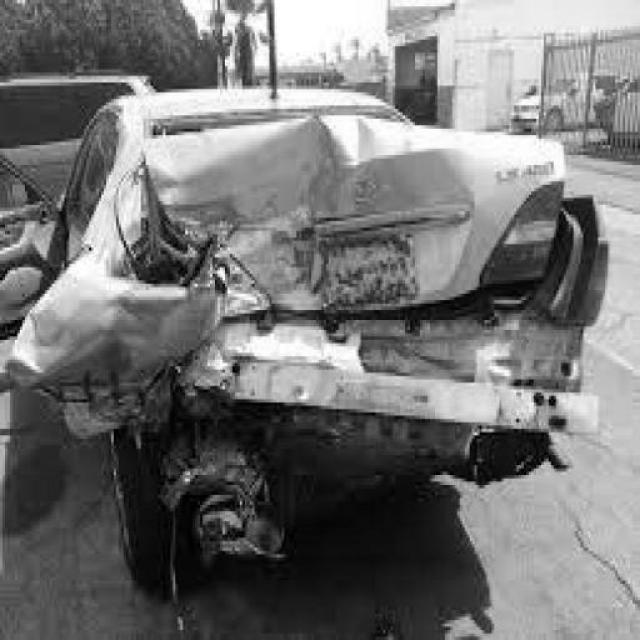crush: (4, 118, 604, 563)
